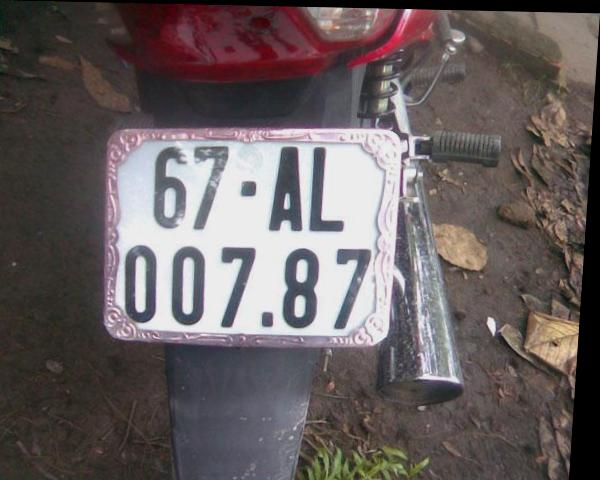License_Plate: (89, 121, 402, 348)
